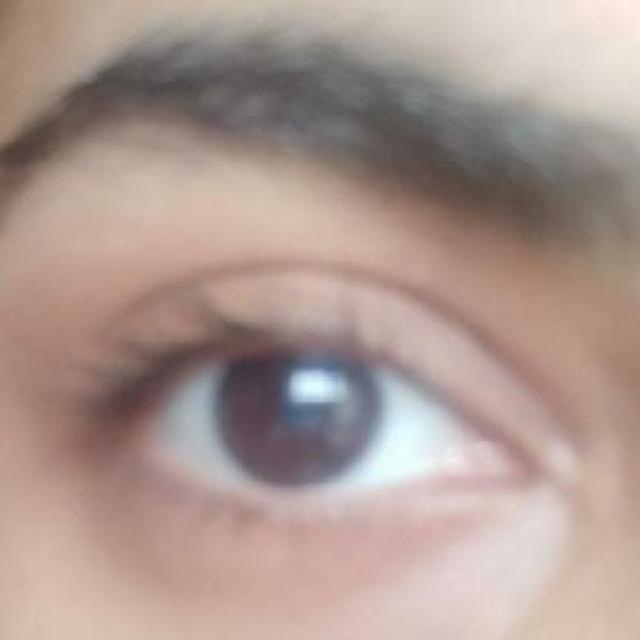awake: (95, 281, 538, 539)
